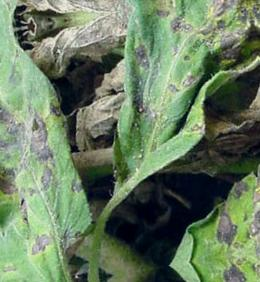Tomato leaf late blight: (83, 0, 260, 193), (69, 120, 260, 280), (0, 22, 102, 282)
